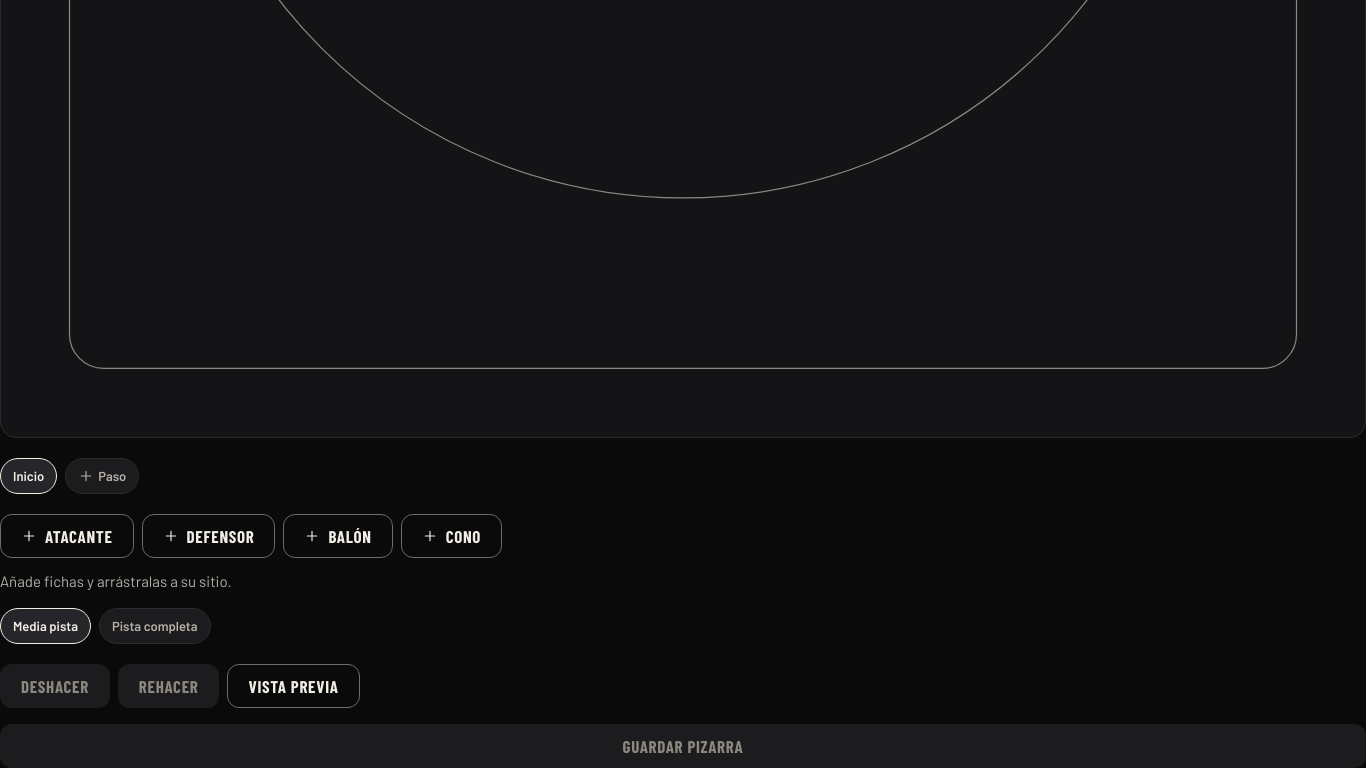
Scenario: BoardEditor · añadir fichas › «Añadir atacante» pone «Atacante 1» en la pista y la deja elegida
This screenshot has width=1366, height=768.
(page scrolled)
Step 1. Click the button with aria-label "Añadir atacante" → (67, 536), box [0,514,134,558]
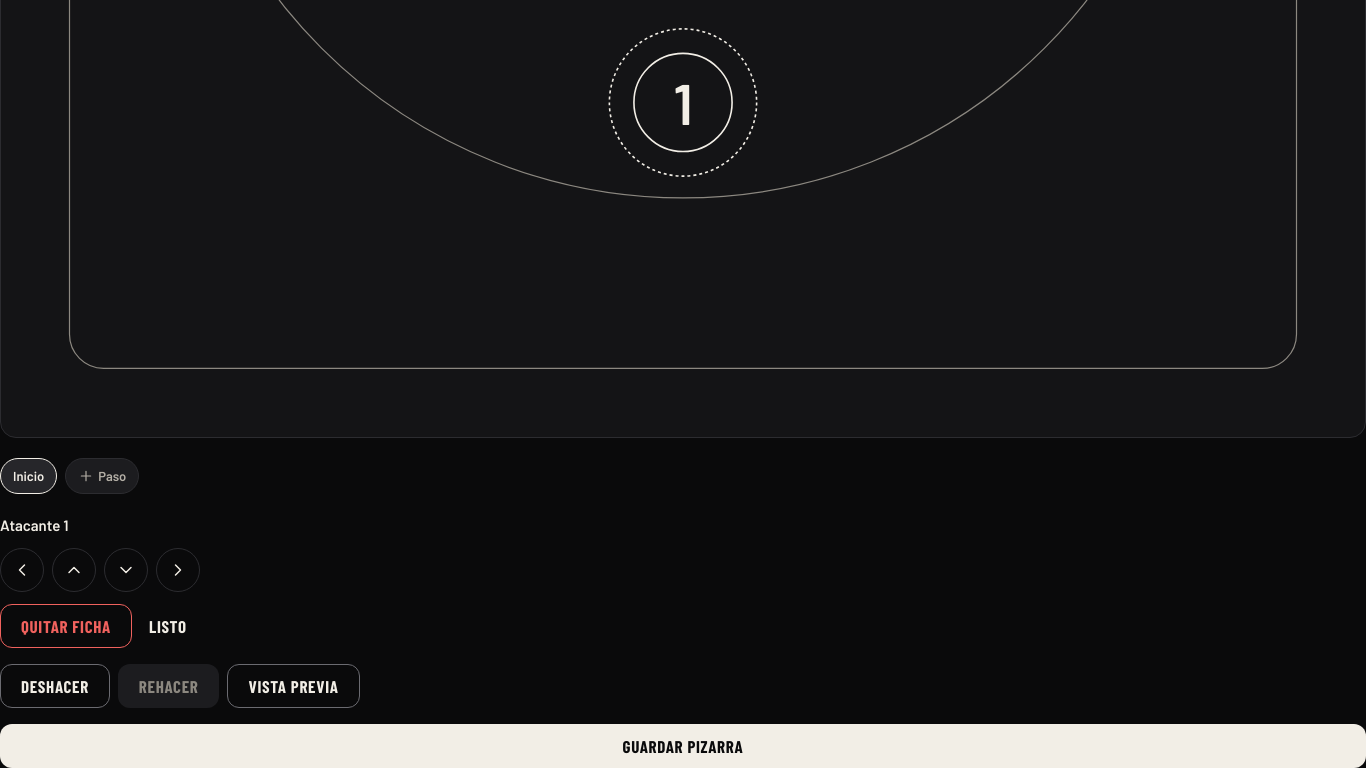
expect the text "Añade fichas y arrástralas a su sitio." is gone: met
